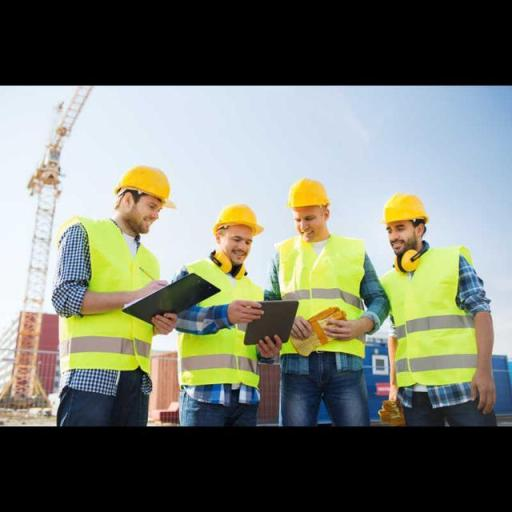Person: (176, 180, 314, 434), (368, 176, 506, 430), (48, 166, 185, 420), (260, 169, 396, 422)
helmet: (112, 158, 176, 209), (214, 202, 266, 236), (380, 190, 434, 221), (288, 178, 334, 211)
none: (123, 266, 168, 311), (470, 363, 501, 419), (220, 287, 264, 326), (384, 374, 414, 430), (330, 303, 358, 349), (284, 302, 316, 341), (248, 322, 286, 353)
vest: (61, 212, 160, 376), (268, 229, 372, 364), (382, 244, 476, 388), (181, 254, 270, 392)
